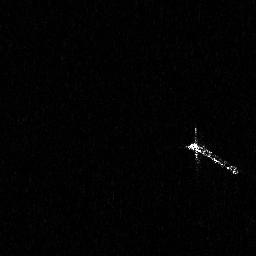ship: (182, 125, 239, 179)
